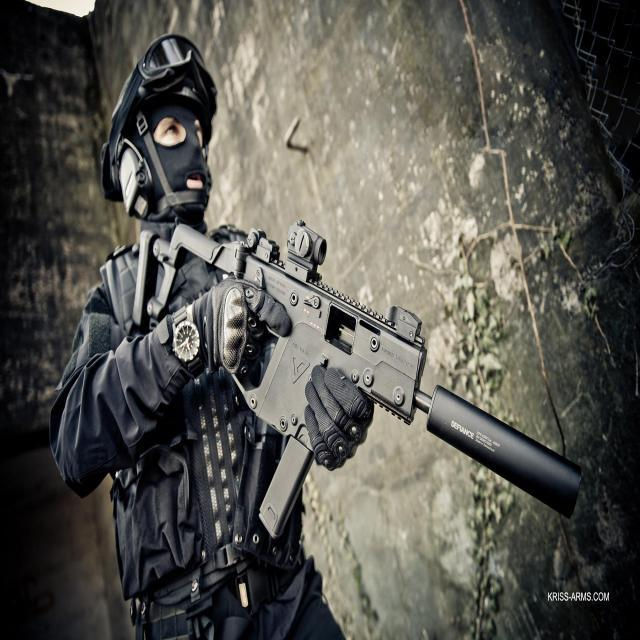weapon: (130, 216, 584, 543)
